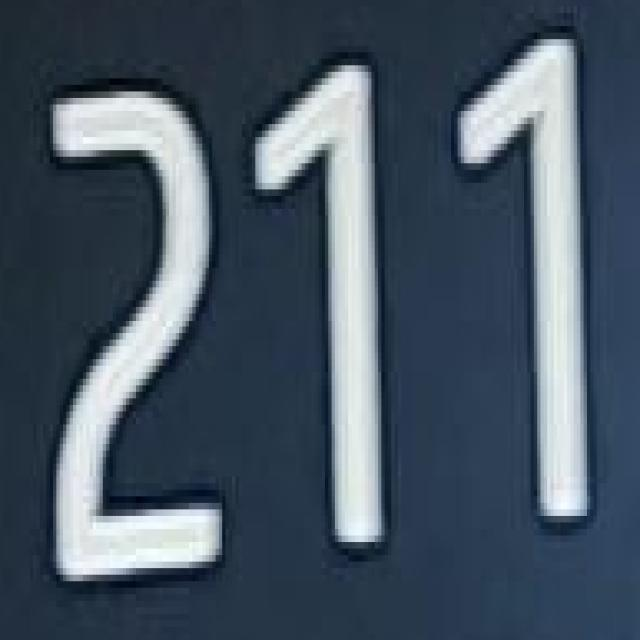character: (43, 71, 231, 578), (249, 51, 402, 572), (448, 21, 601, 538)
